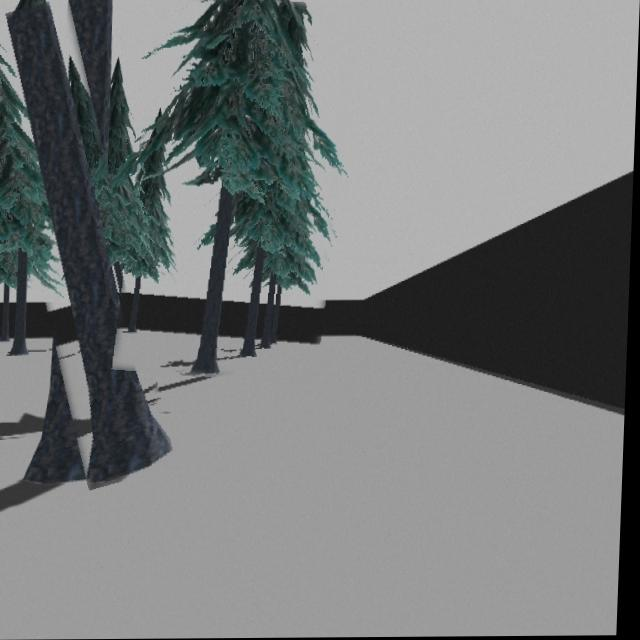tree: (4, 2, 176, 486), (139, 0, 343, 377)
